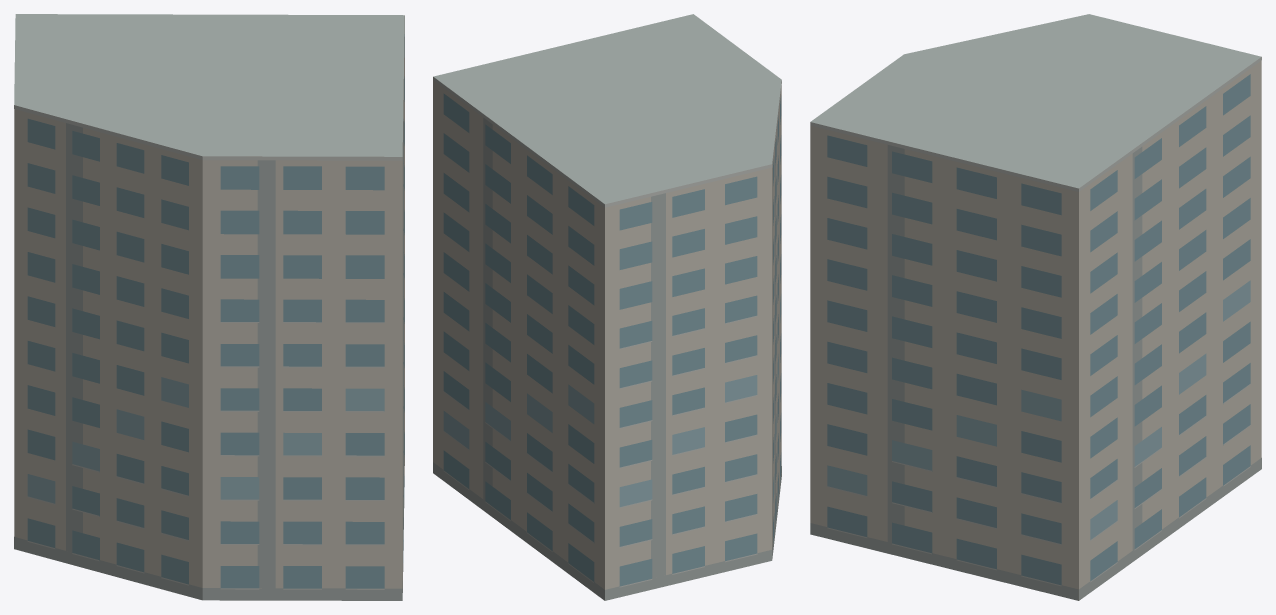
The model's file is residential-844e4942-b228-4456-9172-ef894aff082e.glb.
3 renders of one model, left to right at view 1: azimuth 30°, elevation 25°; view 2: azimuth 150°, elevation 25°; view 3: azimuth 270°, elevation 25°, orthographic. The views are drawn at different scales.
Parts seen in each view (by area): view 1: residential-844e4942-b228-4456-9172-ef894aff082e.tmp; view 2: residential-844e4942-b228-4456-9172-ef894aff082e.tmp; view 3: residential-844e4942-b228-4456-9172-ef894aff082e.tmp.
Part boxes in pixels (<box>): residential-844e4942-b228-4456-9172-ef894aff082e.tmp: <box>14,14,404,600</box>; residential-844e4942-b228-4456-9172-ef894aff082e.tmp: <box>433,14,781,600</box>; residential-844e4942-b228-4456-9172-ef894aff082e.tmp: <box>810,14,1261,600</box>.
Bounding box in the file's own units: 25.42 × 28 × 27.8.
